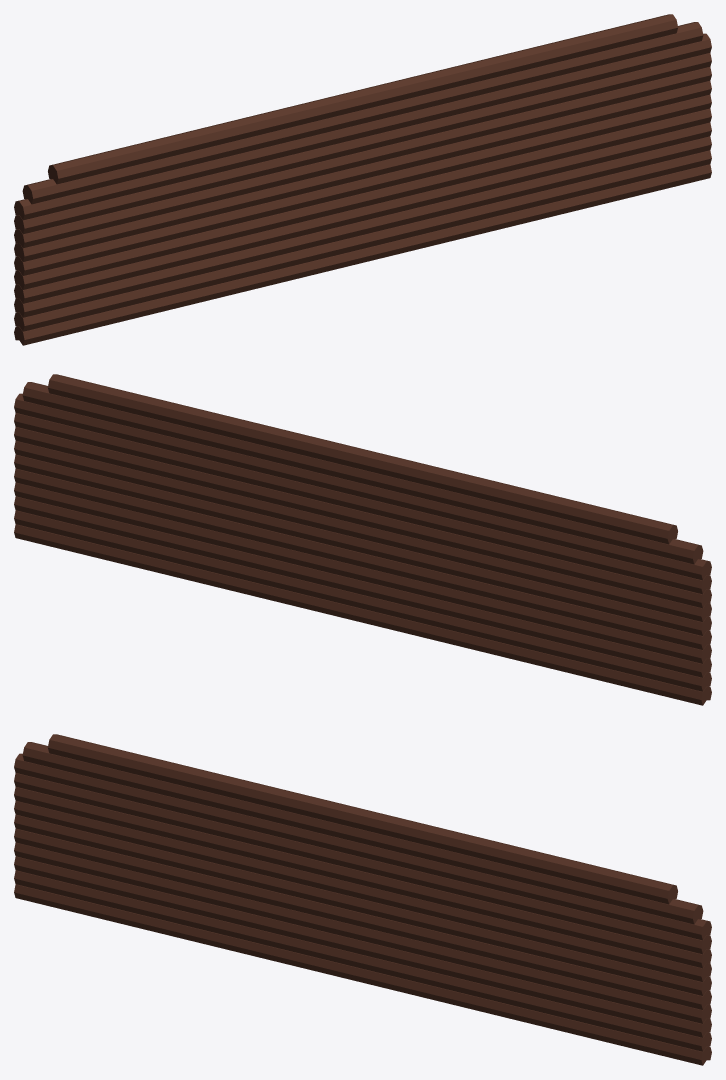
The model's file is Wall_Narrow_02_b_(0).fbx.
3 renders of one model, top to bottom at view 1: azimuth 30°, elevation 25°; view 2: azimuth 150°, elevation 25°; view 3: azimuth 330°, elevation 25°, orthographic.
Visible parts, largest first — view 1: Wall_Narrow_02_b; view 2: Wall_Narrow_02_b; view 3: Wall_Narrow_02_b.
Part boxes in pixels (x1,y1,x2,y2): Wall_Narrow_02_b: (14, 14, 711, 345); Wall_Narrow_02_b: (14, 374, 711, 705); Wall_Narrow_02_b: (14, 734, 711, 1065).
Size of the model in its own units: 982 by 231 by 26.18.
Materials: 1 (1 with a texture image).
